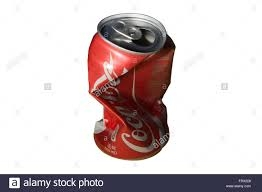metal: (76, 7, 178, 160)
